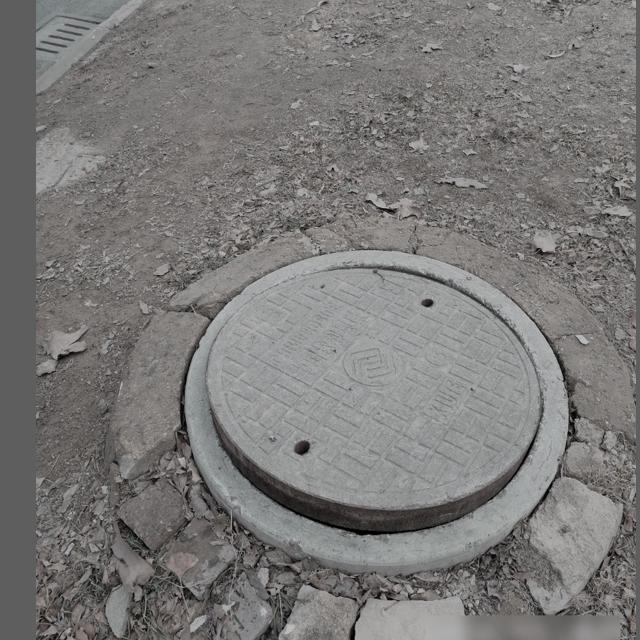uncovered: (181, 247, 571, 573)
